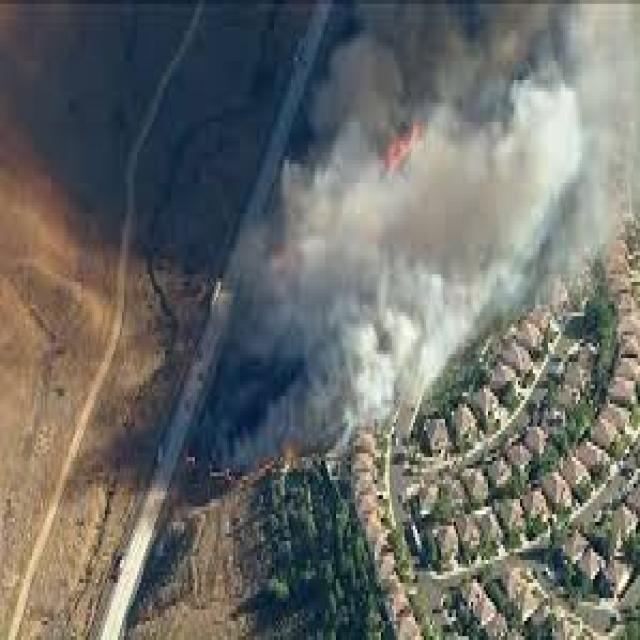Smoke: (220, 206, 460, 460), (461, 2, 640, 312), (268, 3, 459, 203)
